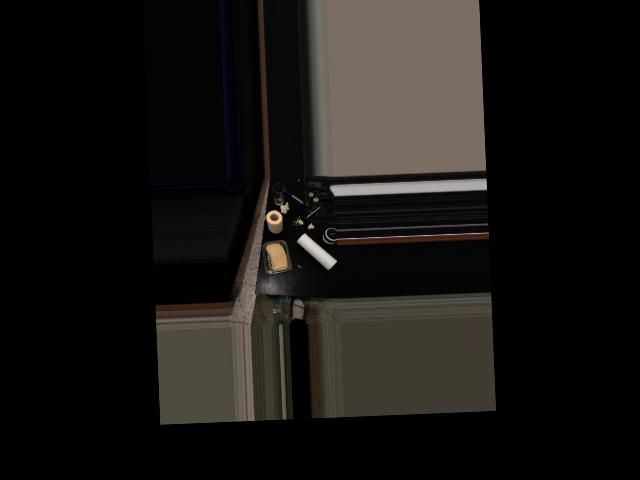cheese: (260, 238, 293, 278)
